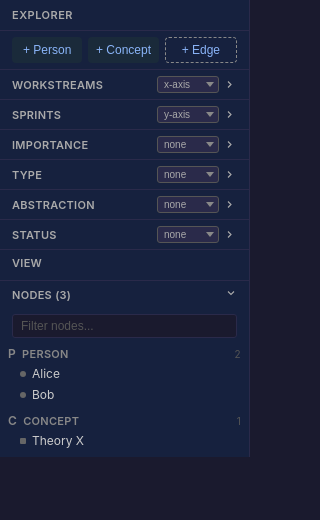
Test: Sidebar › uses classifier labels as section headers
Expected: the text "Workstreams" is shown, x1=12 y1=78 x2=103 y2=92
Click the text "Sprints" at (37, 114), box x1=12 y1=108 x2=61 y2=122
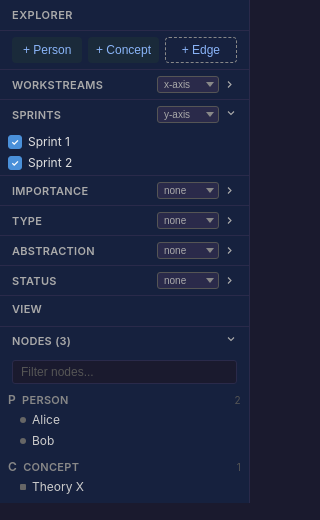
Expected: the text "Sprint 1" is shown, x1=28 y1=134 x2=70 y2=149
Expected: the text "Sprint 2" is shown, x1=28 y1=155 x2=72 y2=170
